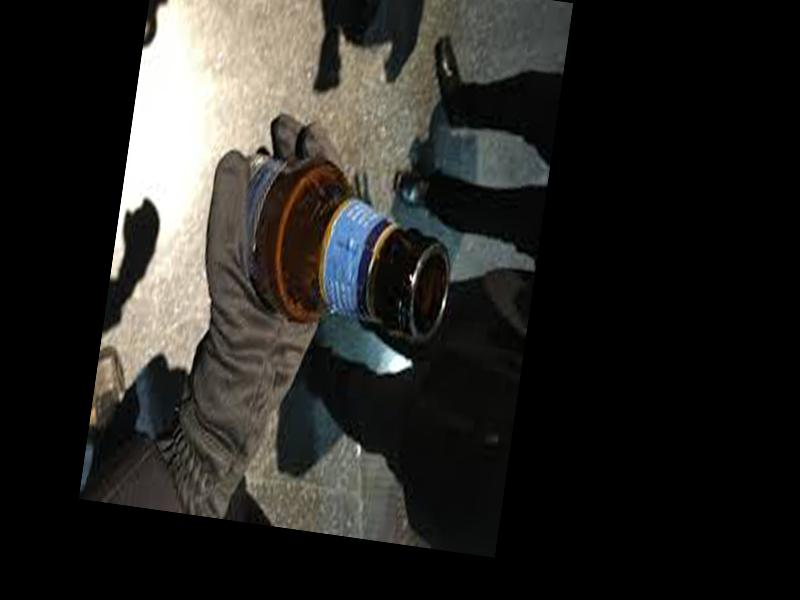Beer: (209, 138, 465, 348)
